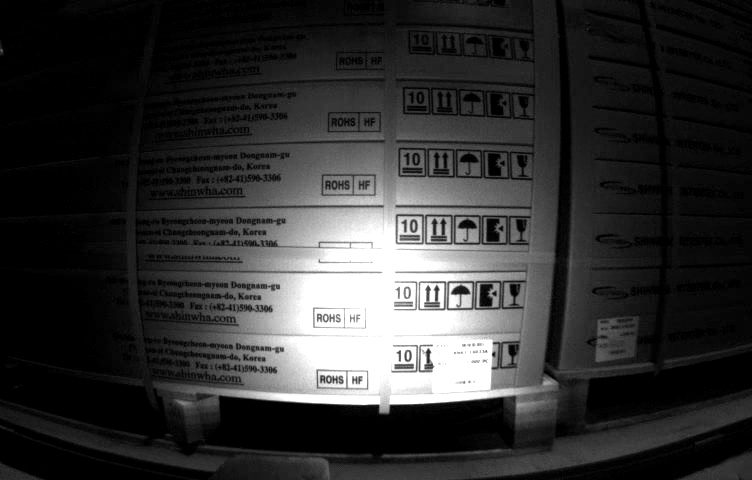True Barcode: (432, 341, 493, 392), (597, 318, 638, 359)
